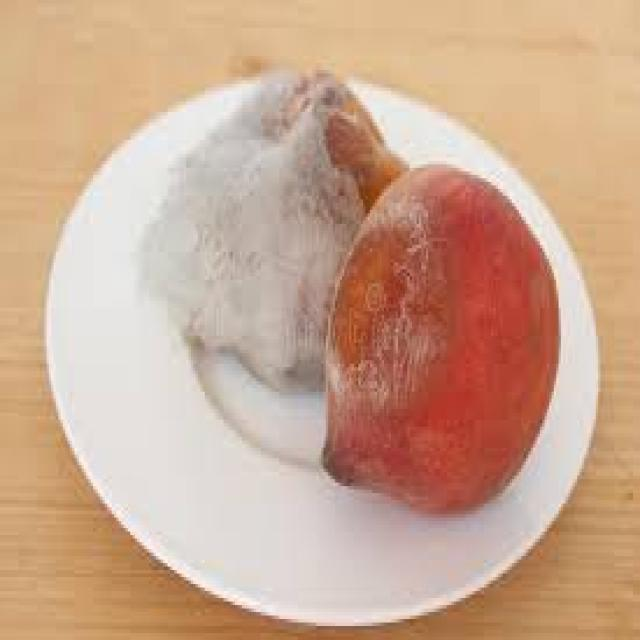biodegradable: (133, 70, 407, 392), (319, 161, 558, 517)
